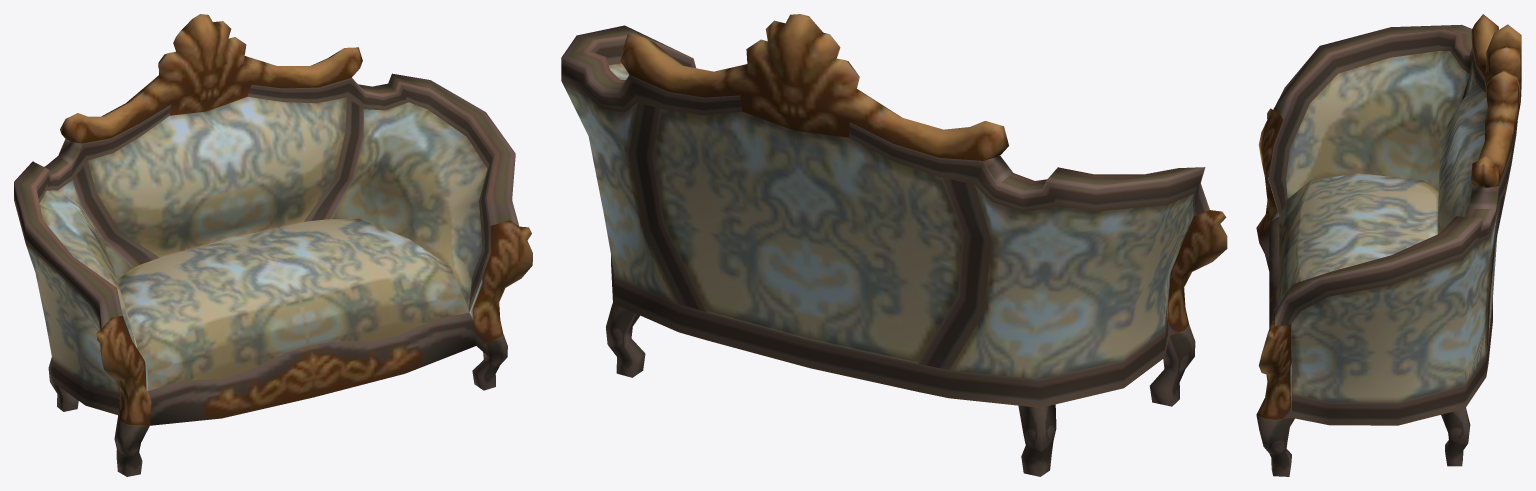
Rendered from rmk_rcc_chairL.dae.
The picture shows the model from 3 angles, left to right: view 1: azimuth 30°, elevation 25°; view 2: azimuth 150°, elevation 25°; view 3: azimuth 270°, elevation 25°; orthographic projection. The views are drawn at different scales.
Parts seen in each view (by area): view 1: rmk_rcc_chairL; view 2: rmk_rcc_chairL; view 3: rmk_rcc_chairL.
Boxes of the visible parts, box(x1,y1,x2,y2) form: rmk_rcc_chairL: box(14, 14, 532, 476); rmk_rcc_chairL: box(561, 14, 1227, 476); rmk_rcc_chairL: box(1256, 14, 1521, 476).
Bounding box in the file's own units: 59.37 × 41.47 × 28.05.
Materials: 1 (1 with a texture image).
